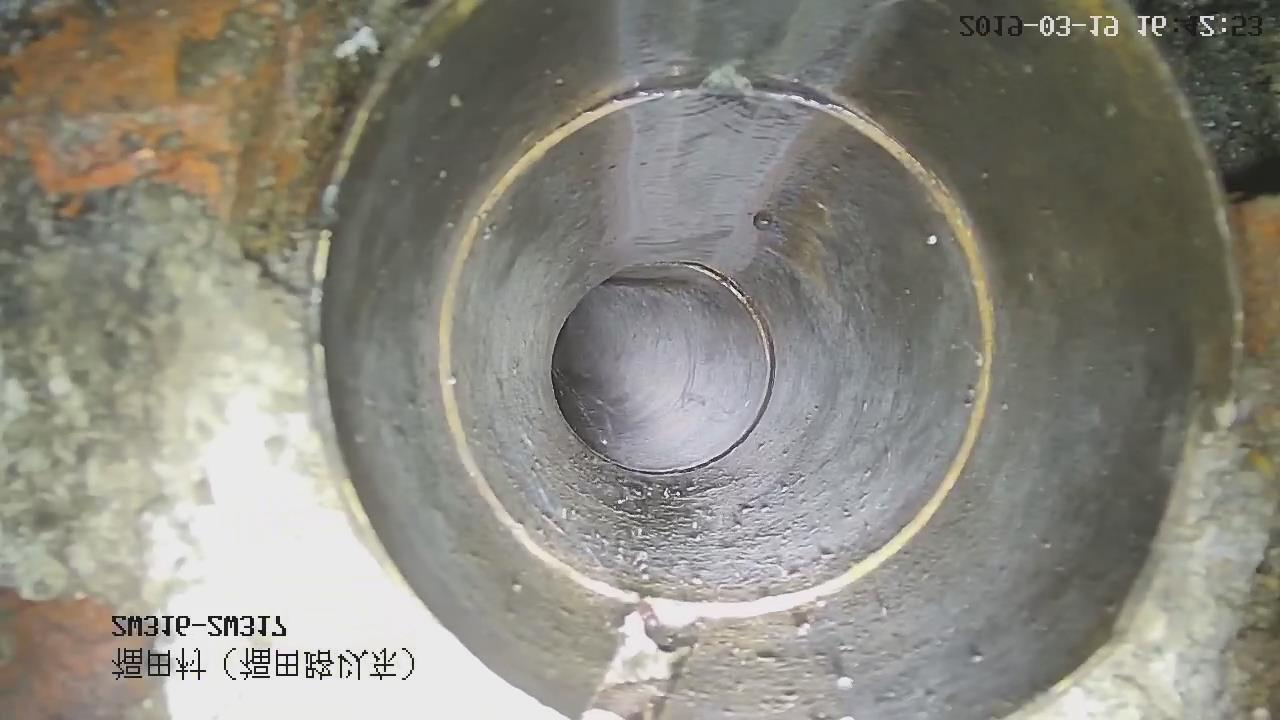CKTJ: (437, 94, 996, 620), (570, 263, 776, 476)
